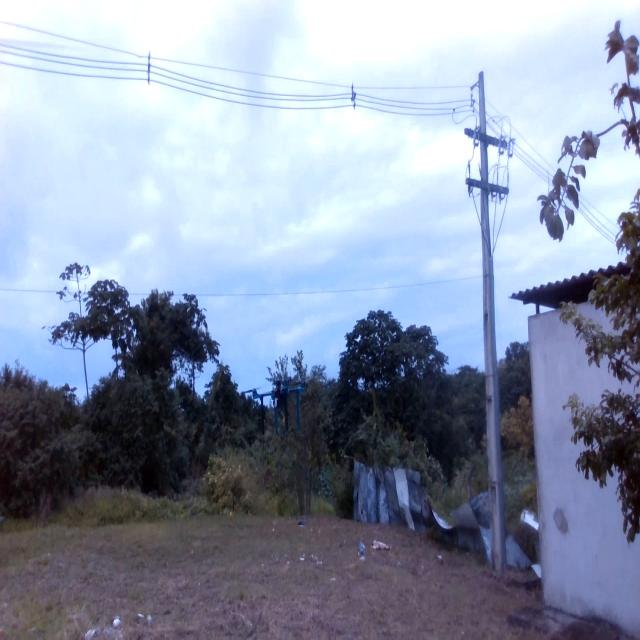-uav-: (245, 375, 305, 441)
